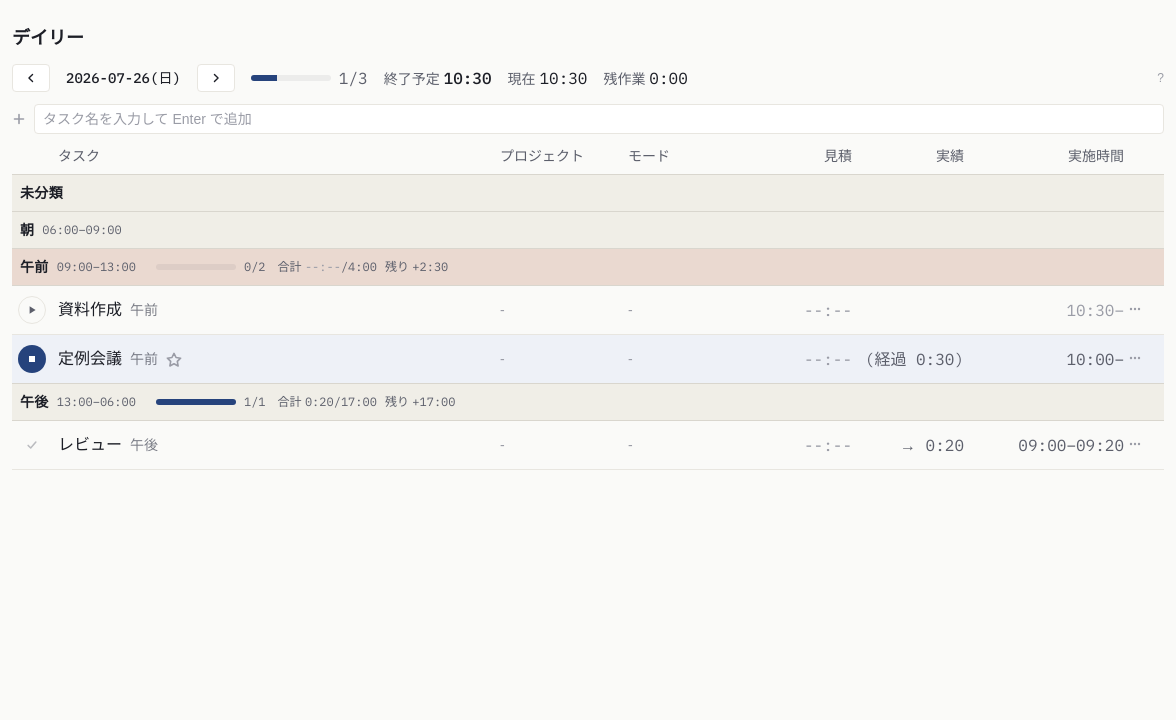
Scenario: DailyBoard の楽観的更新（N-01 / 00_共通 §4: 即UIに反映 → 失敗時はトースト＋ロールバック） › 開始打刻の失敗はエラートーストを出して未実行へ巻き戻す
Step 1. Click the button named "開始" → click(32, 310), box [18,296,46,324]
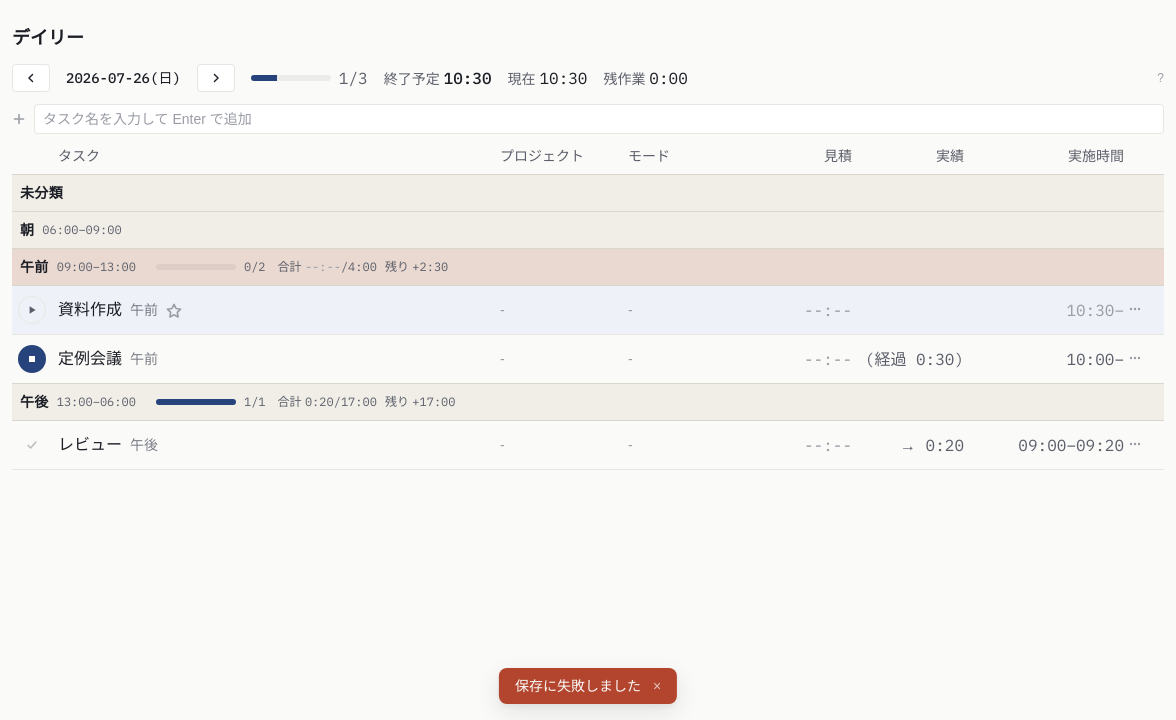
Check: the text "保存に失敗しました" is shown, box [515,676,641,696]
